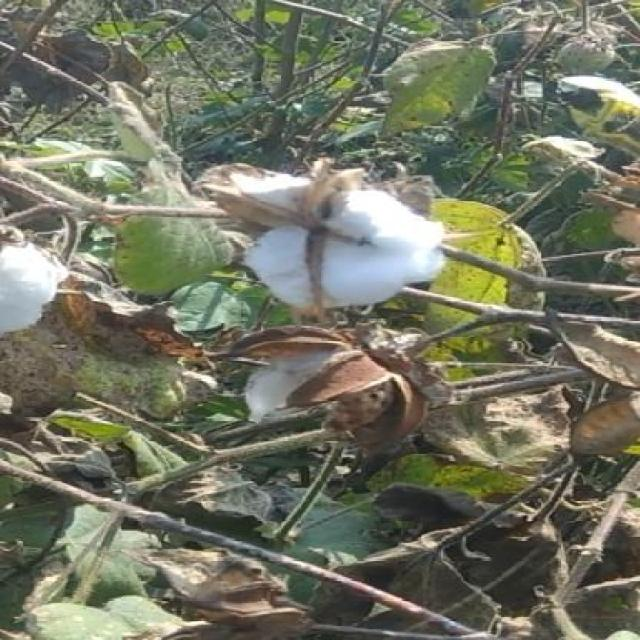cotton_ready: (174, 150, 478, 328)
